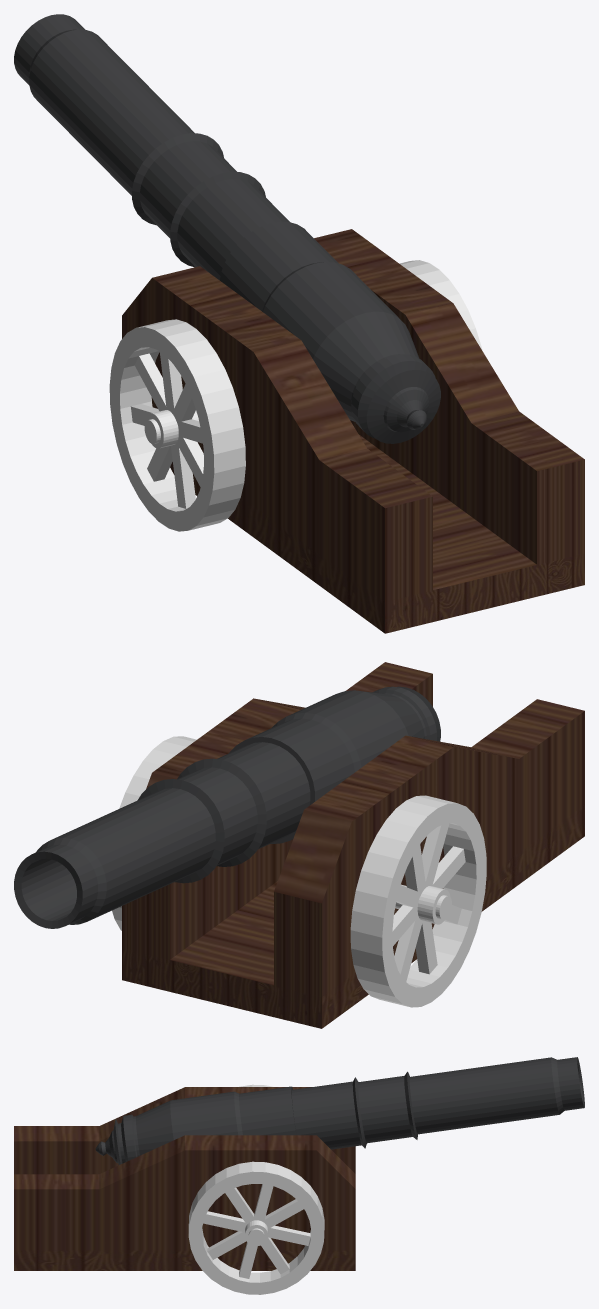
File: Cannon.fbx
3 renders of one model, top to bottom at view 1: azimuth 30°, elevation 25°; view 2: azimuth 150°, elevation 25°; view 3: azimuth 270°, elevation 25°, orthographic. The views are drawn at different scales.
Visible parts, largest first — view 1: Chassis, Barrel, WheelL, WheelL.001; view 2: Chassis, Barrel, WheelL, WheelL.001, Cylinder.003; view 3: Chassis, Barrel, WheelL.001, Cylinder.001.
Boxes of the visible parts, x1=… form: Chassis: x1=122, y1=229, x2=584, y2=633; Barrel: x1=14, y1=14, x2=440, y2=443; WheelL: x1=109, y1=319, x2=245, y2=531; WheelL.001: x1=400, y1=260, x2=482, y2=350; Chassis: x1=122, y1=662, x2=584, y2=1028; Barrel: x1=14, y1=686, x2=440, y2=928; WheelL: x1=350, y1=795, x2=486, y2=1007; WheelL.001: x1=112, y1=736, x2=196, y2=930; Cylinder.003: x1=417, y1=886, x2=450, y2=924; Chassis: x1=14, y1=1087, x2=355, y2=1270; Barrel: x1=95, y1=1057, x2=584, y2=1164; WheelL.001: x1=188, y1=1161, x2=324, y2=1294; Cylinder.001: x1=245, y1=1220, x2=268, y2=1246.
Bounding box in the file's own units: 336 × 319 × 861.
